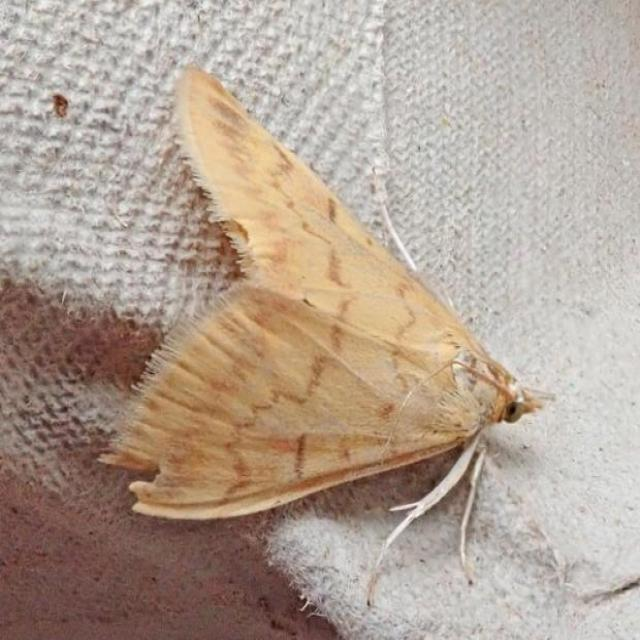cornborer-Adult-: (86, 45, 553, 596)
